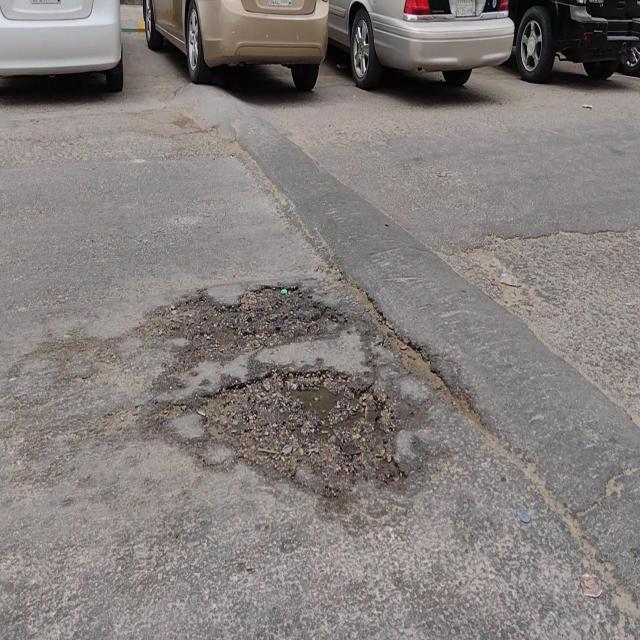Pothole: (207, 366, 403, 502), (163, 286, 333, 376)
